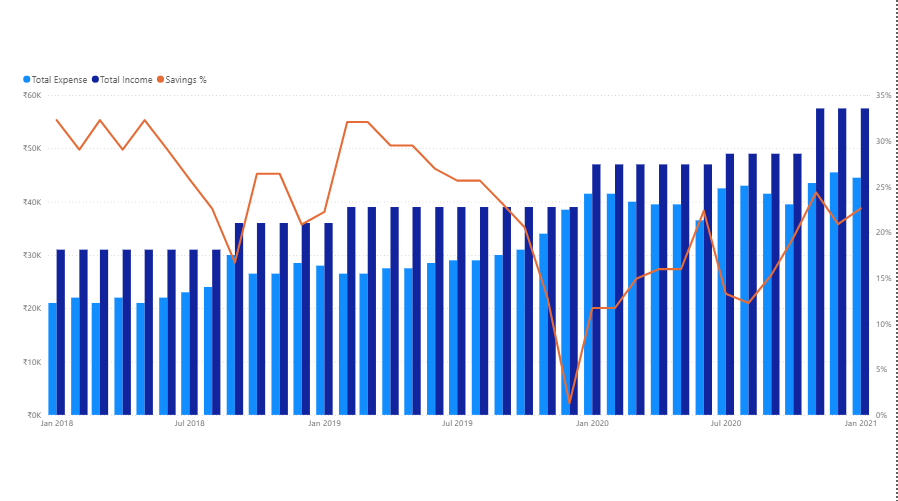

The page's visual inventory and layout, read from the dashboard file:
{"tool":"powerbi","page":{"name":"TT4","canvas":[1280,720],"ordinal":4},"visuals":[{"type":"lineClusteredColumnComboChart","fields":{"Category":["FinData.Date"],"Y":["Key Measures.Total Expense","Key Measures.Total Income"],"Y2":["Key Measures.Savings %"]},"box":[27.7,94.3,1252.3,530.2],"z":0}]}

Visuals, with their boxes in screenshot pixels (x1, y1, x2, y2), scaled from the page's 1280x720 canvas onto the 898x501 screenshot:
lineClusteredColumnComboChart - FinData.Date x Key Measures.Total Expense: box(19, 66, 897, 435)
